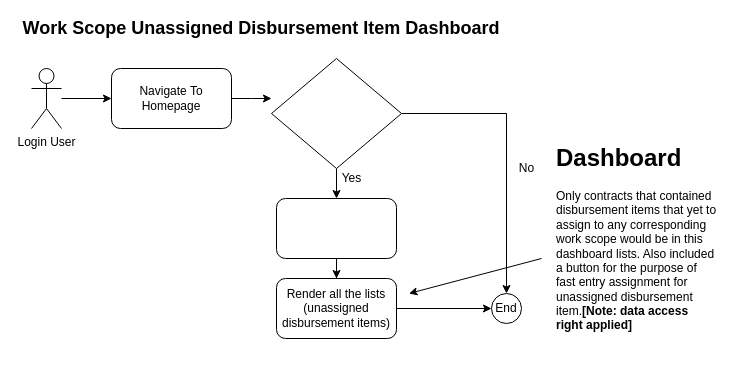
Image size: 738x385. Some labels were removed from this diagram. The shapes that lost their labels are listed below. From the top down, each one's centre as x and y in pixels, then its label:
At point 336,113: "Is Show Work scope Disbursement Assignment Dashboard".
At point 336,228: "Render work scope disbursement unassignment dashboard".
